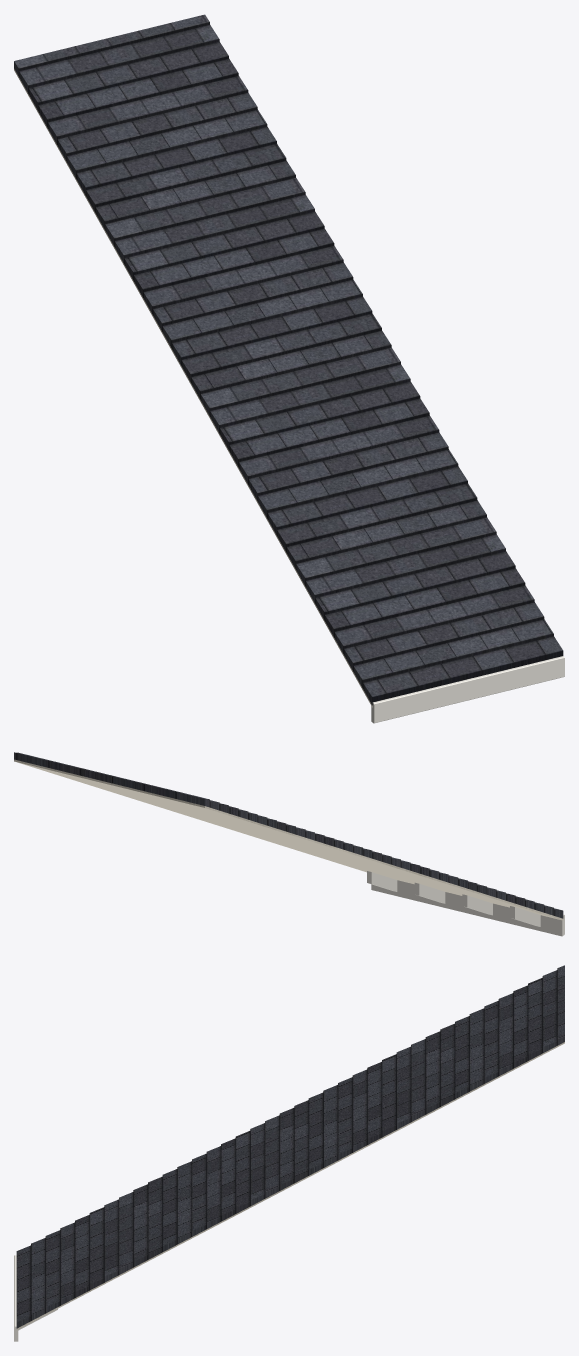
The model's file is roof_main_0_porch.glb.
3 views of the same model, one above another, from view 1: azimuth 30°, elevation 25°; view 2: azimuth 150°, elevation 25°; view 3: azimuth 270°, elevation 25° (orthographic). The views are drawn at different scales.
Parts seen in each view (by area): view 1: roof_main_0_porch_shingles, roof_main_0_porch_trim, roof_main_0_porch_plaster; view 2: roof_main_0_porch_plaster, roof_main_0_porch_shingles, roof_main_0_porch_trim; view 3: roof_main_0_porch_shingles, roof_main_0_porch_plaster.
Part boxes in pixels (box(x1,y1,x2,y2)): roof_main_0_porch_shingles: box(14, 14, 563, 705); roof_main_0_porch_trim: box(371, 656, 564, 723); roof_main_0_porch_plaster: box(14, 68, 372, 707); roof_main_0_porch_plaster: box(14, 759, 563, 920); roof_main_0_porch_shingles: box(14, 752, 563, 918); roof_main_0_porch_trim: box(367, 871, 564, 936); roof_main_0_porch_shingles: box(16, 965, 564, 1328); roof_main_0_porch_plaster: box(16, 1042, 564, 1329).
Size of the model in its own units: 2 by 3.99 by 6.53.
3 materials, 2 textured.
